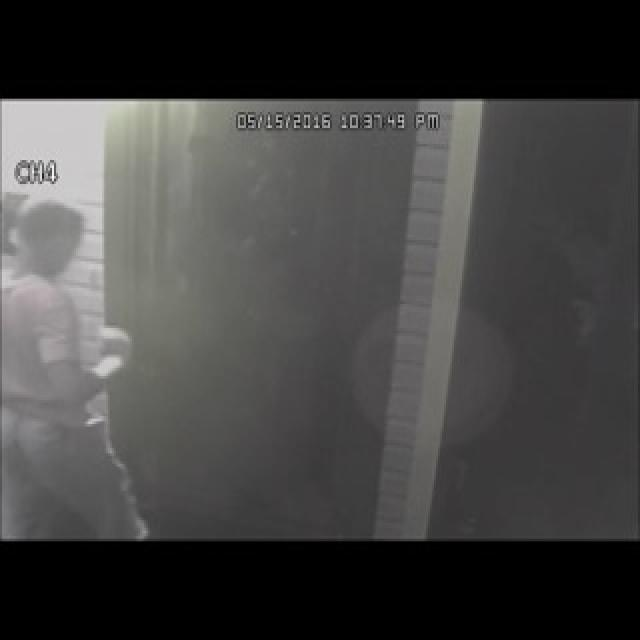thief: (16, 182, 119, 366)
